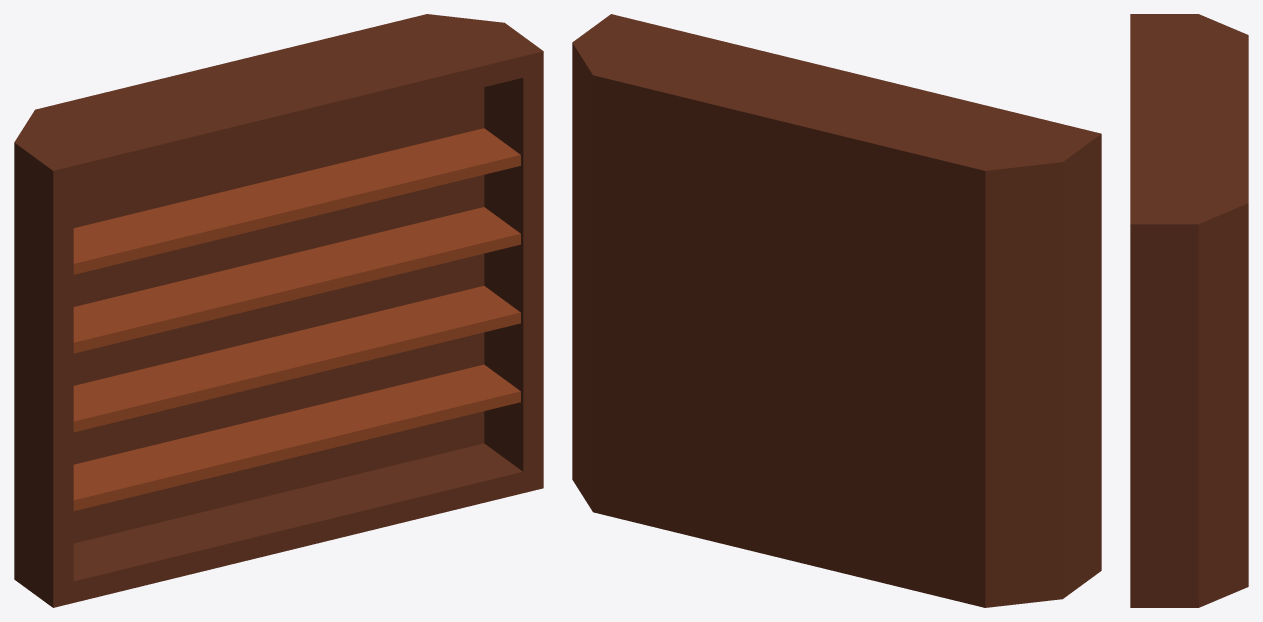
Rendered from Kast.fbx.
The picture shows the model from 3 angles, left to right: view 1: azimuth 30°, elevation 25°; view 2: azimuth 150°, elevation 25°; view 3: azimuth 270°, elevation 25°; orthographic projection. The views are drawn at different scales.
Visible parts, largest first — view 1: Kast; view 2: Kast; view 3: Kast.
Boxes of the visible parts, left/top/right/bottom form: Kast: left=14, top=14, right=543, bottom=607; Kast: left=572, top=14, right=1101, bottom=607; Kast: left=1130, top=14, right=1248, bottom=607.
Bounding box in the file's own units: 2.35 × 2 × 0.5584.
